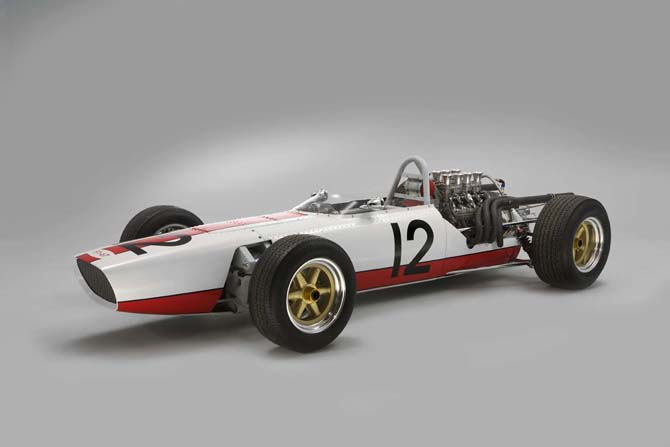f1_car: (68, 148, 622, 364)
